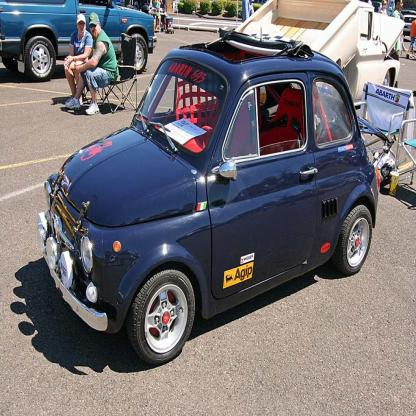Car: (38, 28, 381, 366), (2, 1, 159, 83)
